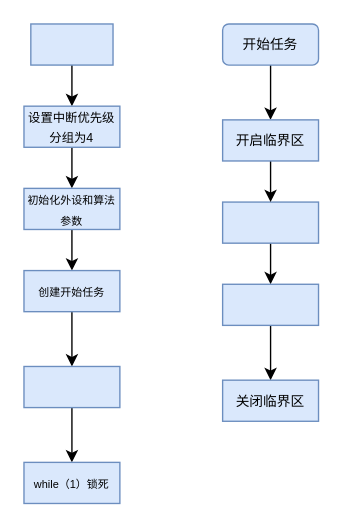
The diagram is 343 pixels wide and 527 high, and some of its shapes have lost their labels. Each missing label, with the centre of its shape:
"创建INS_task" belongs at (x=270, y=222).
"创建pid_task" belongs at (x=270, y=304).
"开启任务调度器" belongs at (x=71, y=386).
"程序开始" belongs at (x=71, y=44).
